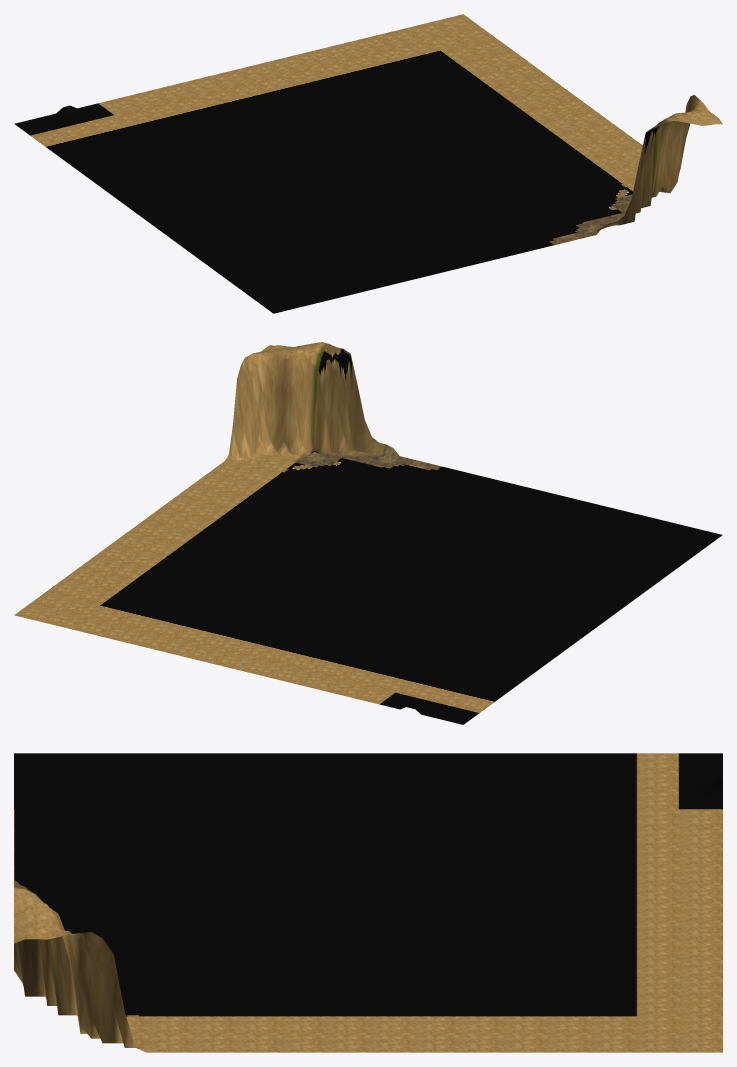
The model's file is terrain.glb.
The picture shows the model from 3 angles, top to bottom: view 1: azimuth 30°, elevation 25°; view 2: azimuth 150°, elevation 25°; view 3: azimuth 270°, elevation 25°; orthographic projection. The views are drawn at different scales.
Visible parts, largest first — view 1: terrain_4_2; view 2: terrain_4_2; view 3: terrain_4_2.
Boxes of the visible parts, bbox=[...] form: terrain_4_2: bbox=[14, 14, 722, 313]; terrain_4_2: bbox=[14, 342, 722, 724]; terrain_4_2: bbox=[14, 753, 722, 1052].
Bounding box in the file's own units: 512 × 104 × 512.
Materials: 1 (1 with a texture image).
